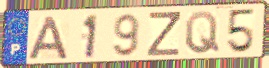1: (81, 13, 99, 60)
5: (224, 7, 258, 55)
9: (112, 12, 142, 58)
A: (27, 15, 71, 61)
Q: (184, 10, 221, 56)
Z: (145, 11, 182, 58)
